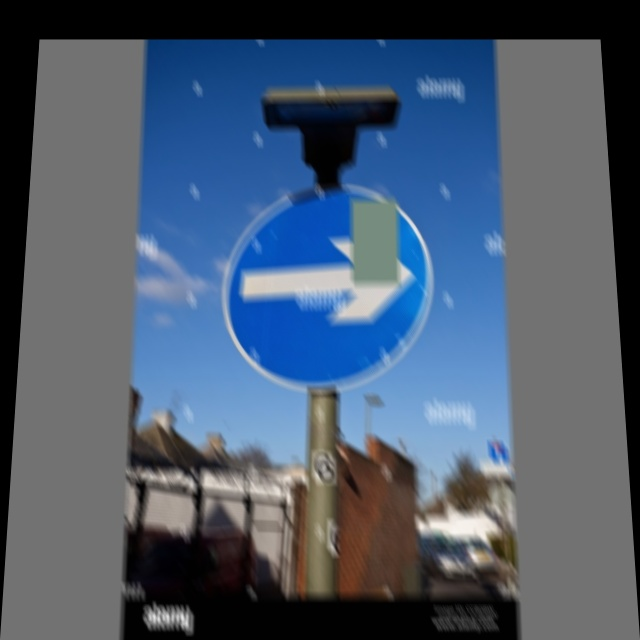Compulsory_Turn_Right: (217, 186, 432, 390)
